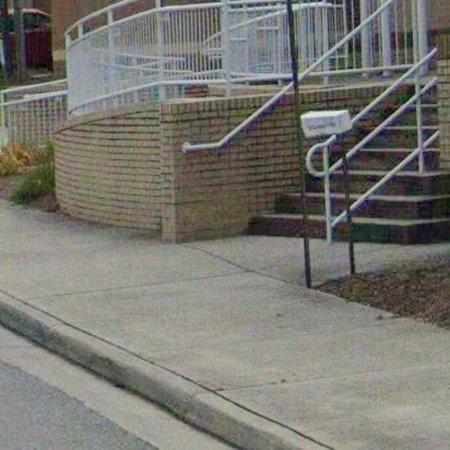stairs: (307, 73, 450, 243), (250, 192, 304, 237)
